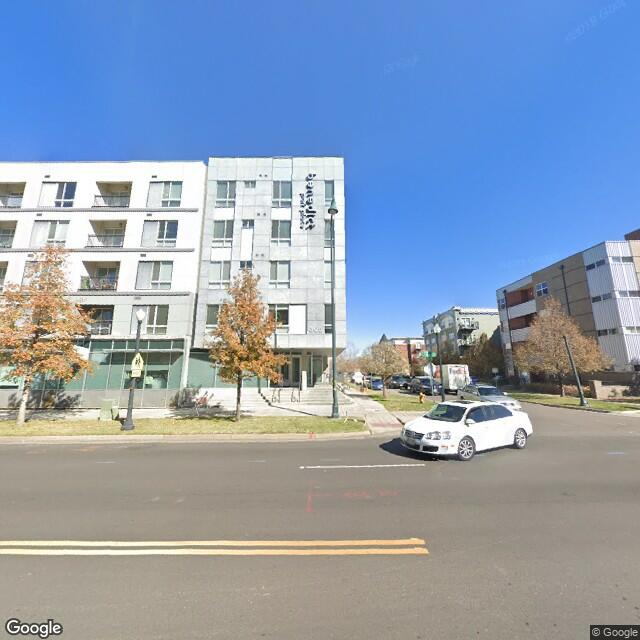lamp: (323, 194, 343, 419)
